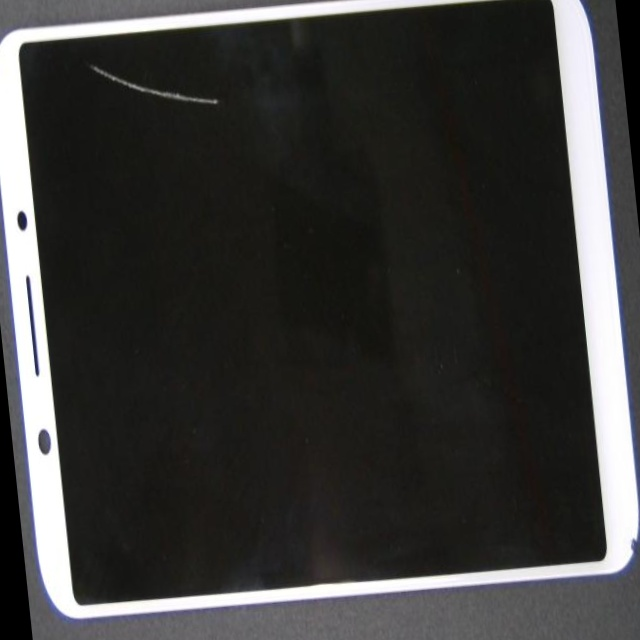scratch: (171, 39, 298, 128)
